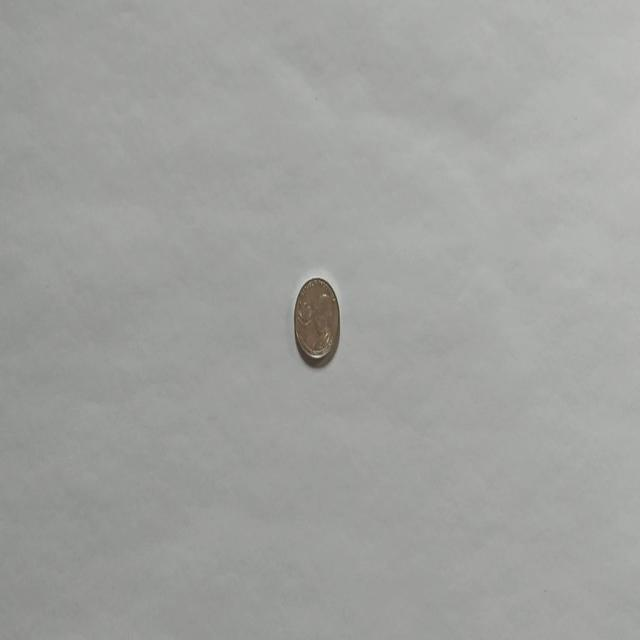lima ratus rupiah: (292, 274, 340, 368)
